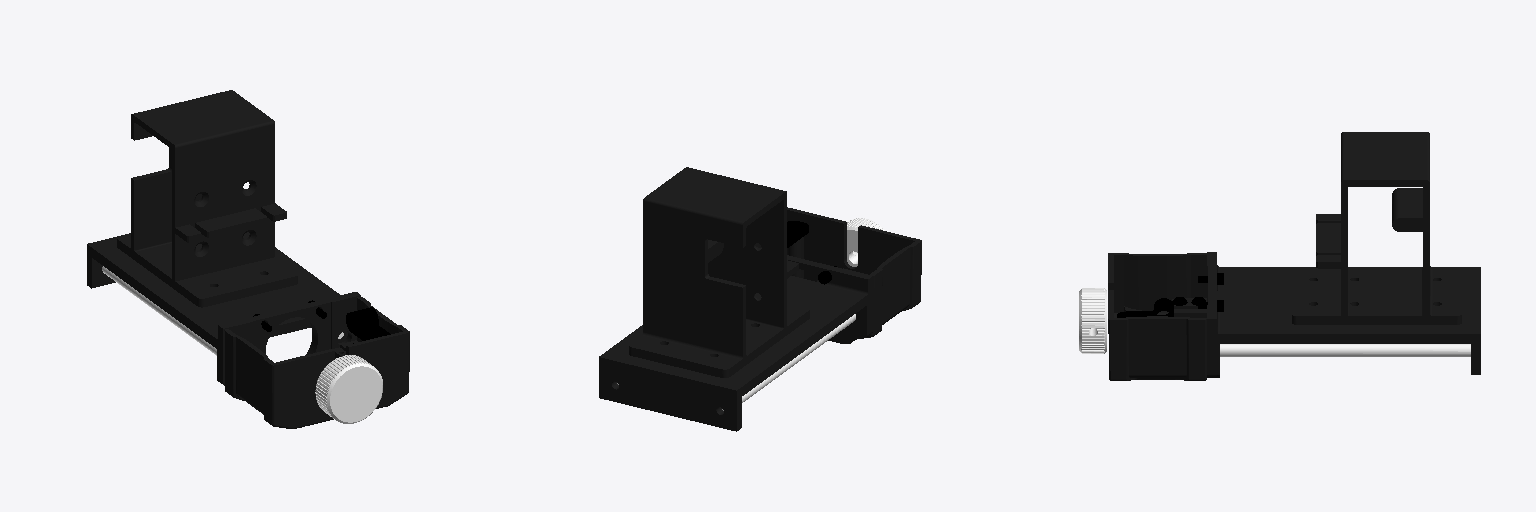
File: axis_x.obj
3 views of the same model, side by side, from view 1: azimuth 30°, elevation 25°; view 2: azimuth 150°, elevation 25°; view 3: azimuth 270°, elevation 25° (orthographic).
Visible parts, largest first — view 1: C50_0203_0BR1_XÖáÖ§¼Ü_1.001, C50_0168_0BJ1_ZÖáÖ§¼Ü£¨ºó¹Ì¶¨£©_1.001, C52_0144_0BS1_Z»¬Ì¨µç»ú¸Ç_°ÎÄ£__1.001, C58_0053_0BR1_»¬Ì¨ÊÖ¶¯µ÷½ÚÃ±_1.001, ZÖáÏß¿Û_1.001, C54_0151_0AA1_SLIDESHAFT_D5_100^ZÖá×é¼þ£¨¸üÐÂ£.001; view 2: C50_0203_0BR1_XÖáÖ§¼Ü_1.001, C50_0168_0BJ1_ZÖáÖ§¼Ü£¨ºó¹Ì¶¨£©_1.001, C52_0144_0BS1_Z»¬Ì¨µç»ú¸Ç_°ÎÄ£__1.001, C54_0151_0AA1_SLIDESHAFT_D5_100^ZÖá×é¼þ£¨¸üÐÂ£.001, C58_0053_0BR1_»¬Ì¨ÊÖ¶¯µ÷½ÚÃ±_1.001; view 3: C50_0203_0BR1_XÖáÖ§¼Ü_1.001, C50_0168_0BJ1_ZÖáÖ§¼Ü£¨ºó¹Ì¶¨£©_1.001, C52_0144_0BS1_Z»¬Ì¨µç»ú¸Ç_°ÎÄ£__1.001, C54_0151_0AA1_SLIDESHAFT_D5_100^ZÖá×é¼þ£¨¸üÐÂ£, C58_0053_0BR1_»¬Ì¨ÊÖ¶¯µ÷½ÚÃ±_1.001.
Part boxes in pixels (x1,y1,x2,y2): C50_0203_0BR1_XÖáÖ§¼Ü_1.001: (117, 90, 297, 307); C50_0168_0BJ1_ZÖáÖ§¼Ü£¨ºó¹Ì¶¨£©_1.001: (87, 232, 360, 385); C52_0144_0BS1_Z»¬Ì¨µç»ú¸Ç_°ÎÄ£__1.001: (224, 297, 409, 428); C58_0053_0BR1_»¬Ì¨ÊÖ¶¯µ÷½ÚÃ±_1.001: (315, 355, 382, 423); ZÖáÏß¿Û_1.001: (346, 307, 390, 340); C54_0151_0AA1_SLIDESHAFT_D5_100^ZÖá×é¼þ£¨¸üÐÂ£.001: (102, 266, 216, 355); C50_0203_0BR1_XÖáÖ§¼Ü_1.001: (629, 167, 809, 377); C50_0168_0BJ1_ZÖáÖ§¼Ü£¨ºó¹Ì¶¨£©_1.001: (599, 247, 872, 431); C52_0144_0BS1_Z»¬Ì¨µç»ú¸Ç_°ÎÄ£__1.001: (755, 207, 921, 339); C54_0151_0AA1_SLIDESHAFT_D5_100^ZÖá×é¼þ£¨¸üÐÂ£.001: (722, 314, 855, 410); C58_0053_0BR1_»¬Ì¨ÊÖ¶¯µ÷½ÚÃ±_1.001: (847, 218, 884, 266); C50_0203_0BR1_XÖáÖ§¼Ü_1.001: (1292, 132, 1461, 324); C50_0168_0BJ1_ZÖáÖ§¼Ü£¨ºó¹Ì¶¨£©_1.001: (1174, 252, 1480, 377); C52_0144_0BS1_Z»¬Ì¨µç»ú¸Ç_°ÎÄ£__1.001: (1108, 253, 1206, 380); C54_0151_0AA1_SLIDESHAFT_D5_100^ZÖá×é¼þ£¨¸üÐÂ£: (1220, 344, 1470, 356); C58_0053_0BR1_»¬Ì¨ÊÖ¶¯µ÷½ÚÃ±_1.001: (1079, 288, 1106, 353).
Bounding box in the file's own units: 0.058 × 0.0803 × 0.1459.